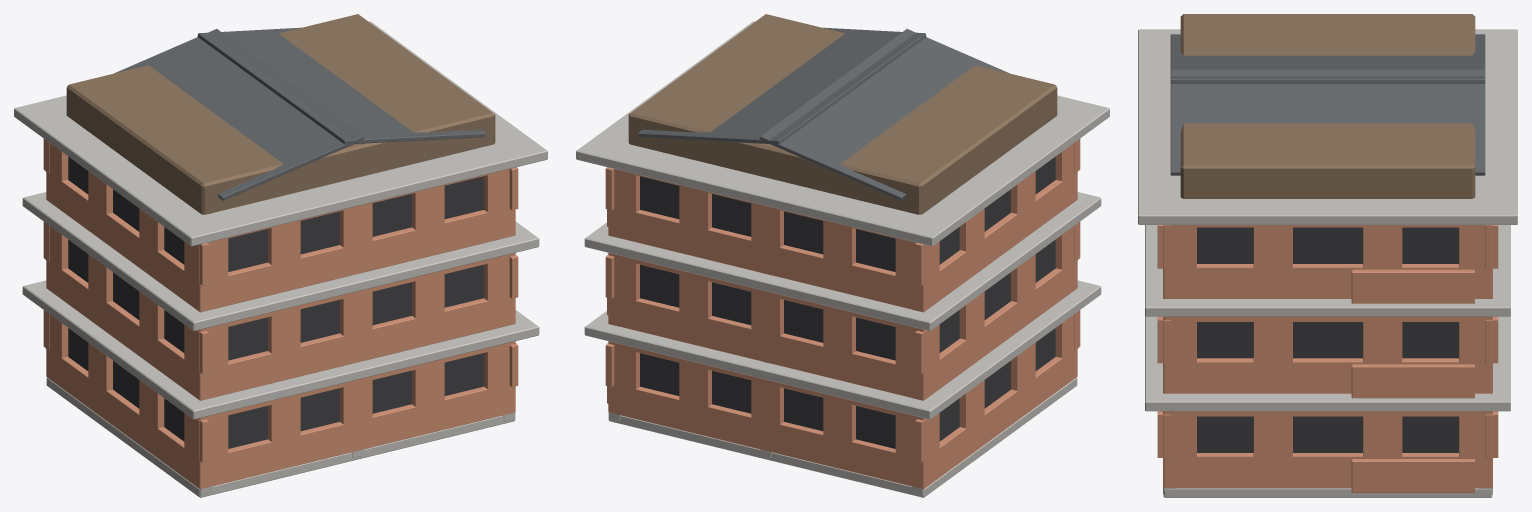
The model's file is Sultanbeyli_BrickConstruction.fbx.
3 views of the same model, side by side, from view 1: azimuth 30°, elevation 25°; view 2: azimuth 150°, elevation 25°; view 3: azimuth 270°, elevation 25° (orthographic). The views are drawn at different scales.
Parts seen in each view (by area): view 1: Sultanbeyli_BrickConstruction; view 2: Sultanbeyli_BrickConstruction; view 3: Sultanbeyli_BrickConstruction.
Boxes of the visible parts, left/top/right/bottom form: Sultanbeyli_BrickConstruction: left=14, top=14, right=547, bottom=497; Sultanbeyli_BrickConstruction: left=576, top=14, right=1109, bottom=497; Sultanbeyli_BrickConstruction: left=1138, top=14, right=1517, bottom=497.
Bounding box in the file's own units: 12.9 × 11.01 × 11.1.
